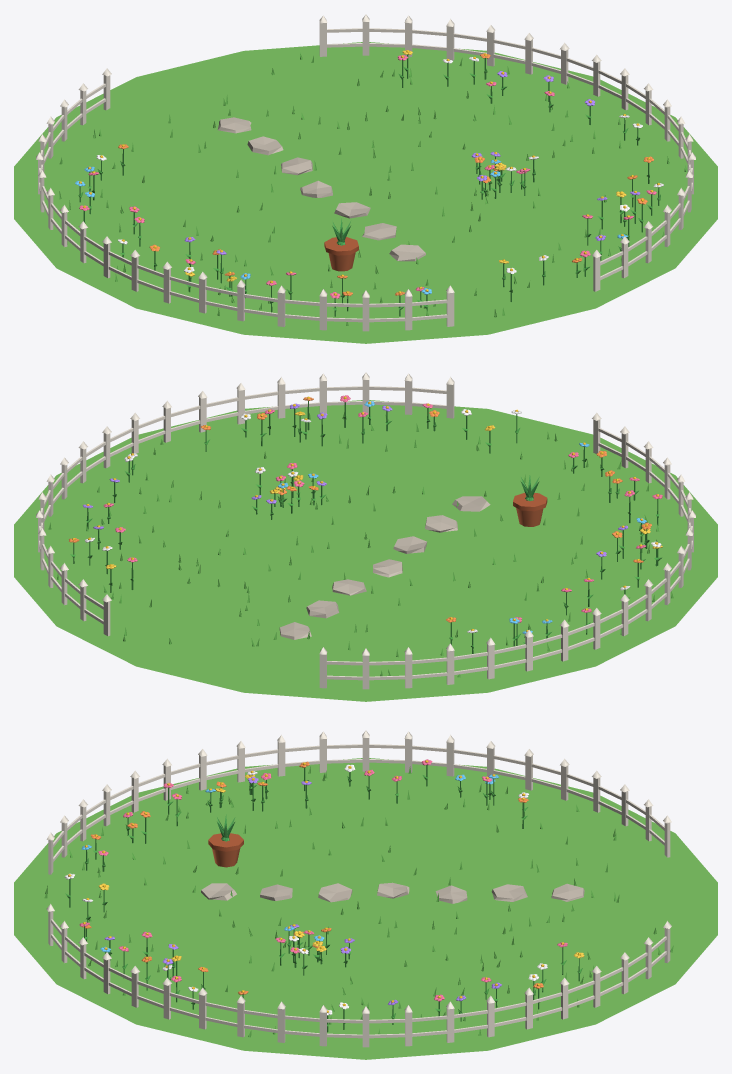
Rendered from garden.glb.
3 views of the same model, one above another, from view 1: azimuth 30°, elevation 25°; view 2: azimuth 150°, elevation 25°; view 3: azimuth 270°, elevation 25° (orthographic).
Parts seen in each view (by area): view 1: garden, pot; view 2: garden, pot; view 3: garden, pot.
Part boxes in pixels (x1,y1,x2,y2): garden: [14, 14, 717, 343]; pot: [324, 218, 358, 271]; garden: [14, 372, 717, 701]; pot: [513, 475, 547, 526]; garden: [14, 730, 717, 1059]; pot: [208, 814, 243, 867].
Bounding box in the file's own units: 9.2 × 0.6751 × 9.06.
